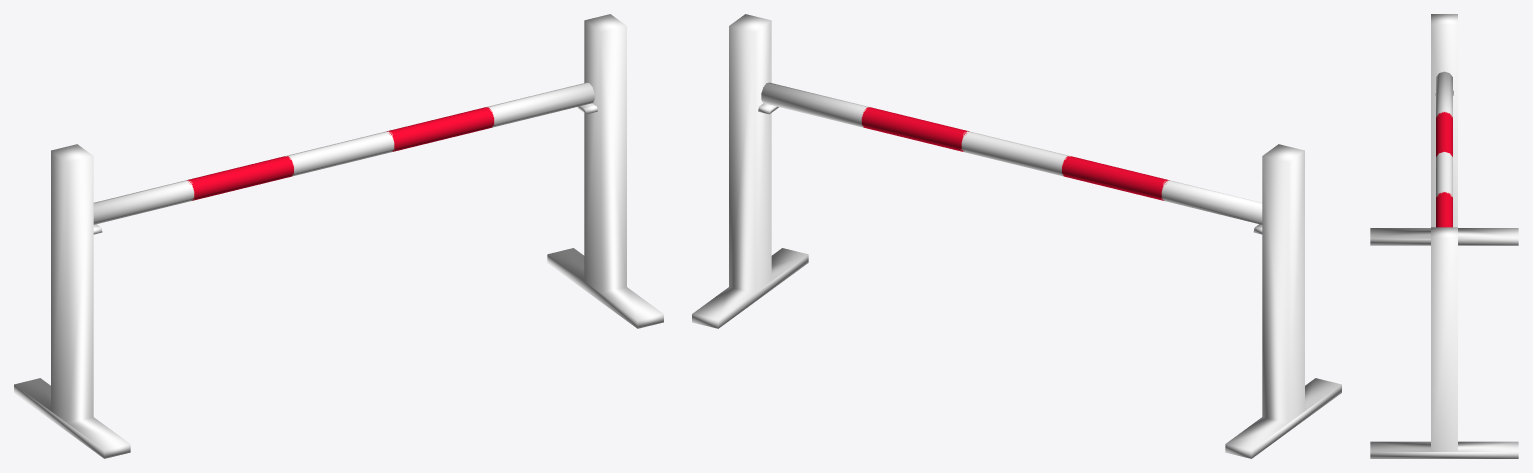
The model's file is obstacle.fbx.
3 renders of one model, left to right at view 1: azimuth 30°, elevation 25°; view 2: azimuth 150°, elevation 25°; view 3: azimuth 270°, elevation 25°, orthographic. The views are drawn at different scales.
Visible parts, largest first — view 1: Cube, Cylinder; view 2: Cube, Cylinder; view 3: Cube, Cylinder.
Boxes of the visible parts, x1=… form: Cube: x1=14, y1=14, x2=663, y2=458; Cylinder: x1=93, y1=82, x2=594, y2=224; Cube: x1=692, y1=14, x2=1341, y2=458; Cylinder: x1=761, y1=82, x2=1262, y2=224; Cube: x1=1370, y1=14, x2=1518, y2=458; Cylinder: x1=1436, y1=71, x2=1452, y2=227.
Size of the model in its own units: 272 by 125 by 75.95.
